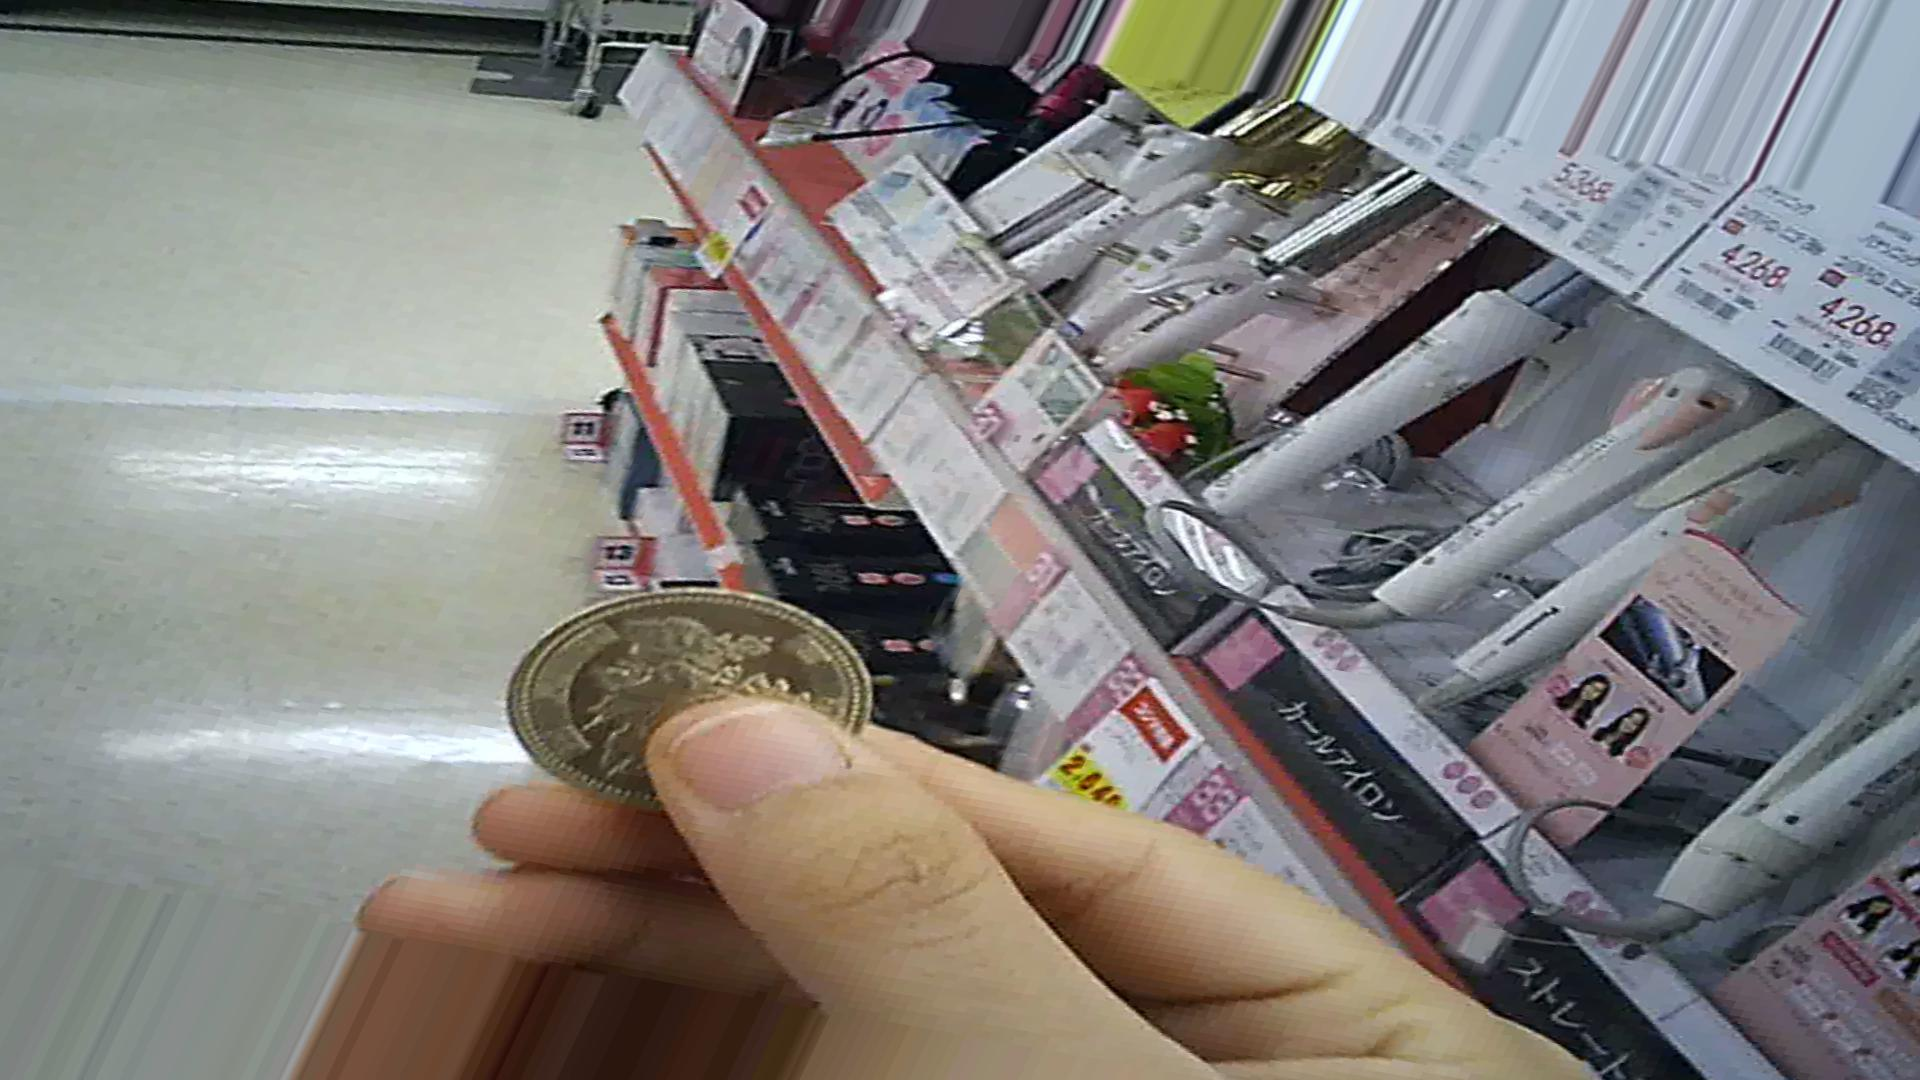500 Yen: (488, 575, 874, 819)
